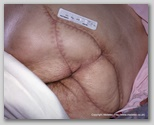NA: (50, 18, 127, 110)
